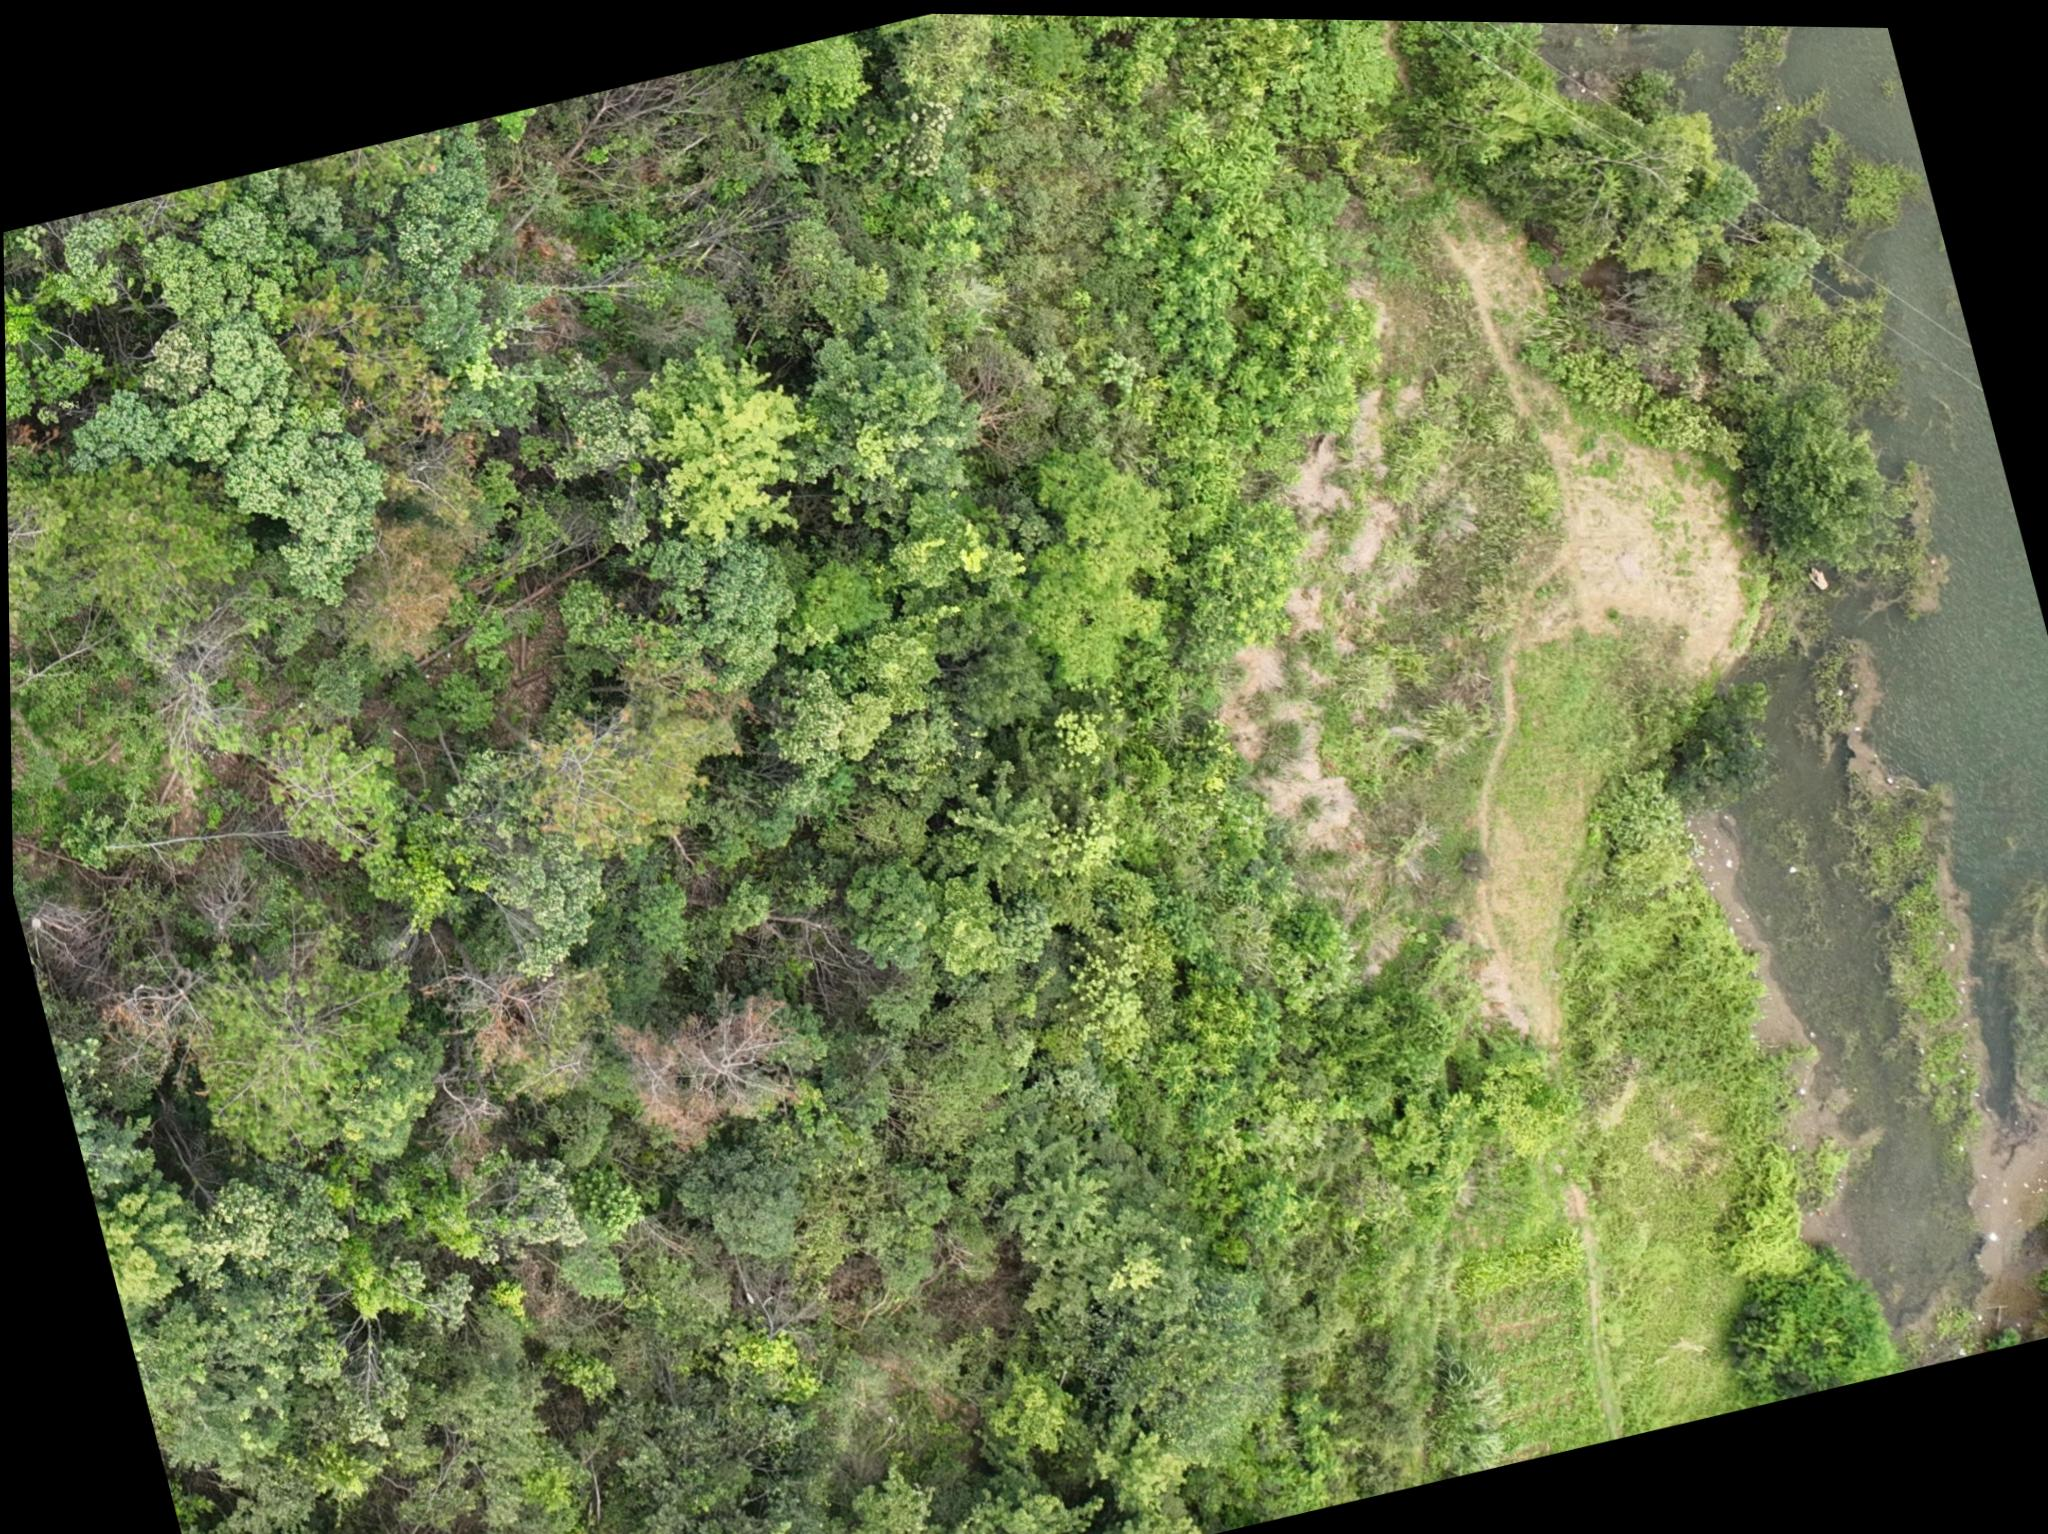dead: (110, 593, 303, 820), (611, 980, 819, 1160), (437, 946, 578, 1089), (79, 962, 227, 1088), (15, 883, 111, 983)
